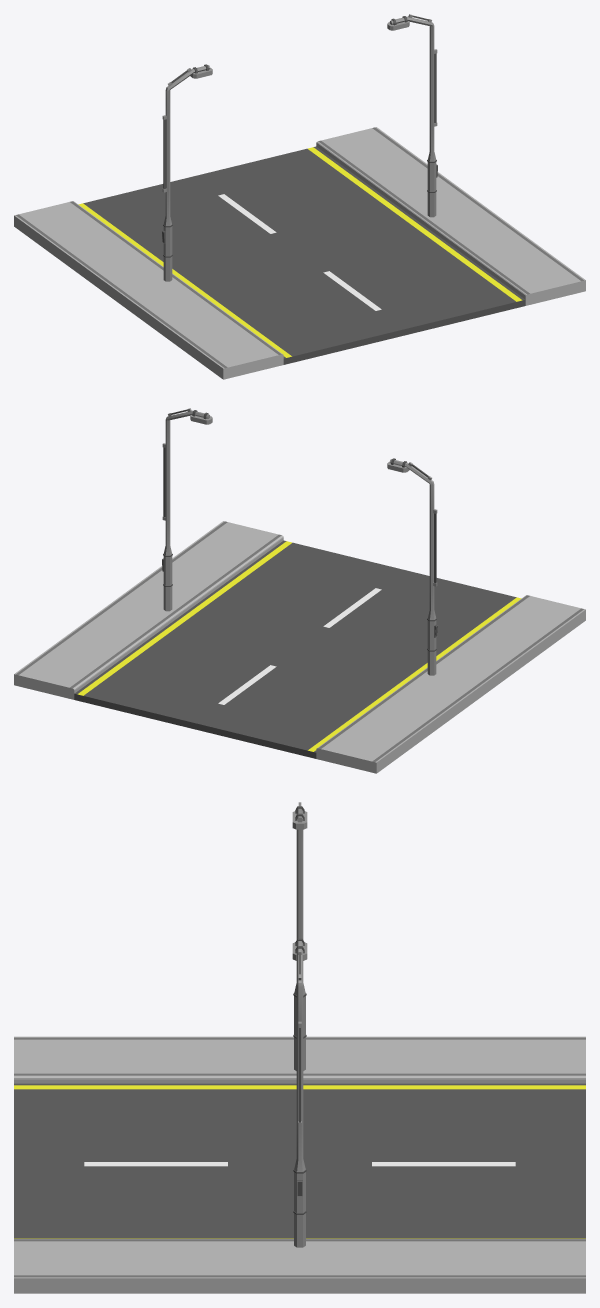
Rendered from SM_Road_Straight_01.FBX.
3 renders of one model, top to bottom at view 1: azimuth 30°, elevation 25°; view 2: azimuth 150°, elevation 25°; view 3: azimuth 270°, elevation 25°, orthographic. The views are drawn at different scales.
Visible parts, largest first — view 1: SM_Road_Straight_01; view 2: SM_Road_Straight_01; view 3: SM_Road_Straight_01.
Boxes of the visible parts, bbox=[...] form: SM_Road_Straight_01: bbox=[14, 14, 585, 379]; SM_Road_Straight_01: bbox=[14, 408, 585, 773]; SM_Road_Straight_01: bbox=[14, 802, 585, 1293].
Bounding box in the file's own units: 6 × 3.44 × 6.
2 materials, 2 textured.
